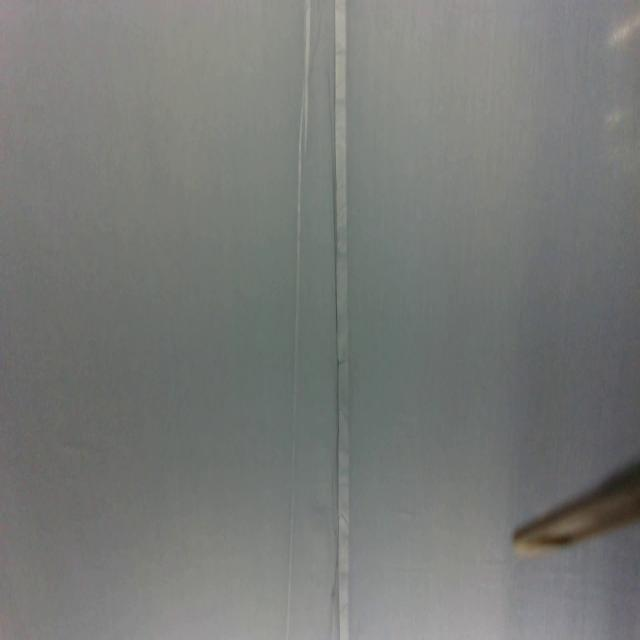crease: (282, 1, 313, 640), (333, 0, 353, 640)
